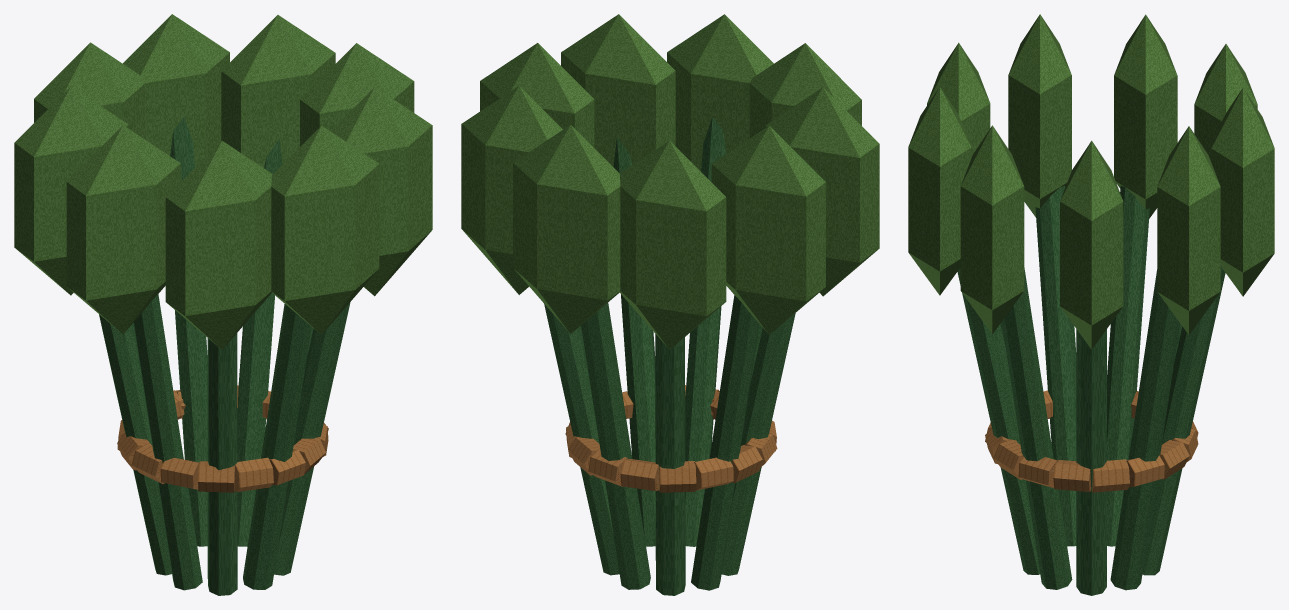
File: herb_bundle.glb
3 views of the same model, side by side, from view 1: azimuth 30°, elevation 25°; view 2: azimuth 150°, elevation 25°; view 3: azimuth 270°, elevation 25° (orthographic).
Parts seen in each view (by area): view 1: leaf (×9), twig (×7), twine4, twine6, twine5, twine3, twine7, twine2; view 2: leaf (×9), twig (×7), twine11, twine9, twine10, twine12, twine8, twine13; view 3: leaf (×9), twig (×7), twine15, twine0, twine1, twine14, twine13, twine2.
Part boxes in pixels (x1,y1,x2,y2): leaf (×9): (14,14,432,349); twig (×7): (99,116,350,595); twine4: (235,457,273,492); twine6: (160,457,200,489); twine5: (198,461,234,492); twine3: (269,449,305,485); twine7: (131,443,164,483); twine2: (293,437,325,476); leaf (×9): (461,14,879,349); twig (×7): (544,117,795,595); twine11: (620,459,659,490); twine9: (694,457,733,490); twine10: (659,461,696,492); twine12: (588,448,628,486); twine8: (731,445,762,482); twine13: (568,437,599,475); leaf (×9): (908,14,1274,349); twig (×7): (957,186,1225,595); twine15: (1092,459,1129,492); twine0: (1053,460,1091,491); twine1: (1018,456,1058,487); twine14: (1126,455,1164,487); twine13: (1159,440,1189,479); twine2: (993,439,1023,479).
Size of the model in its own units: 0.5451 by 0.7039 by 0.4759.
1 material, 1 textured.
